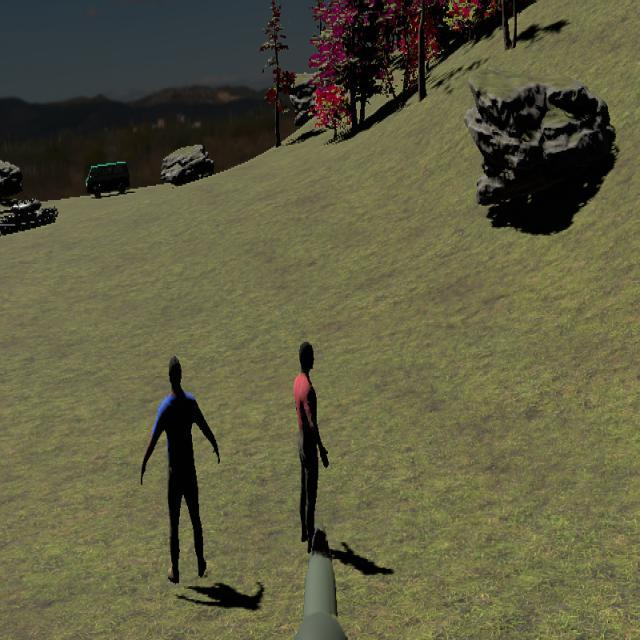Human: (140, 354, 221, 585), (140, 351, 221, 582), (294, 339, 330, 545)
Tank: (0, 198, 59, 235)
car: (86, 161, 130, 198)
